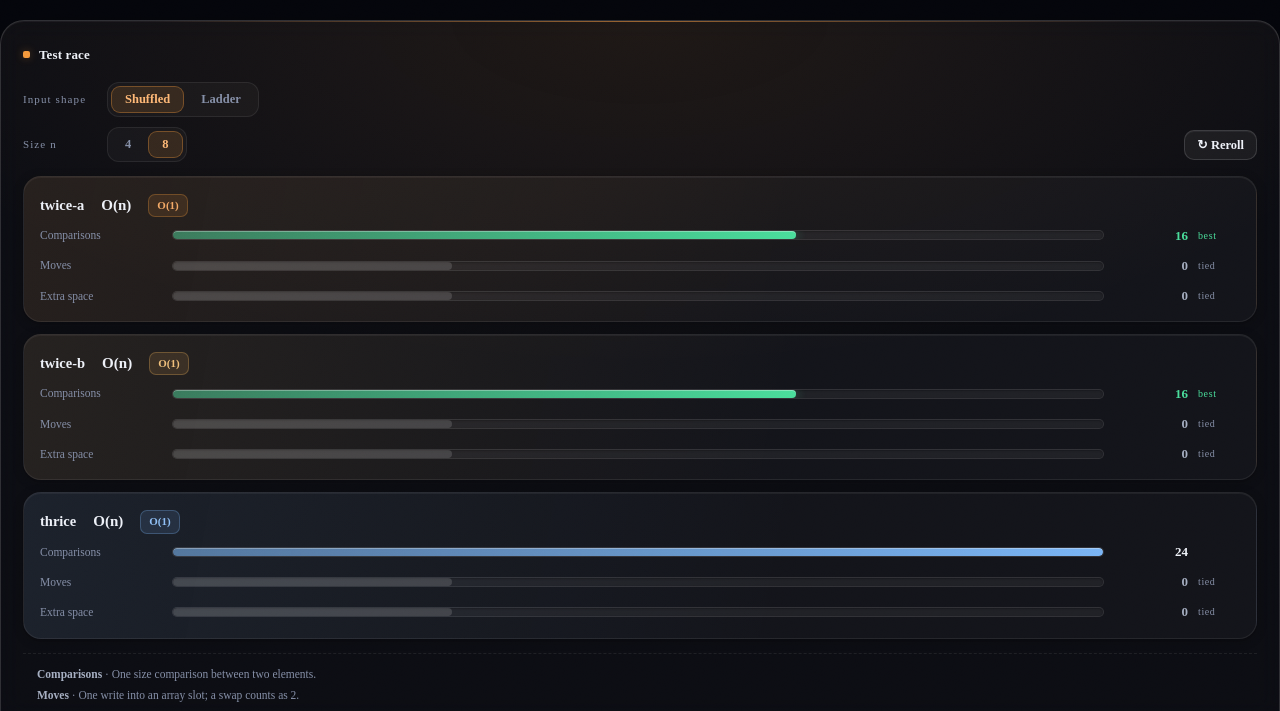
the reroll button › is disabled, with the shape's reason, when no count can change
Click the button "Ladder". click: x=221, y=100
box: [187,86,255,113]
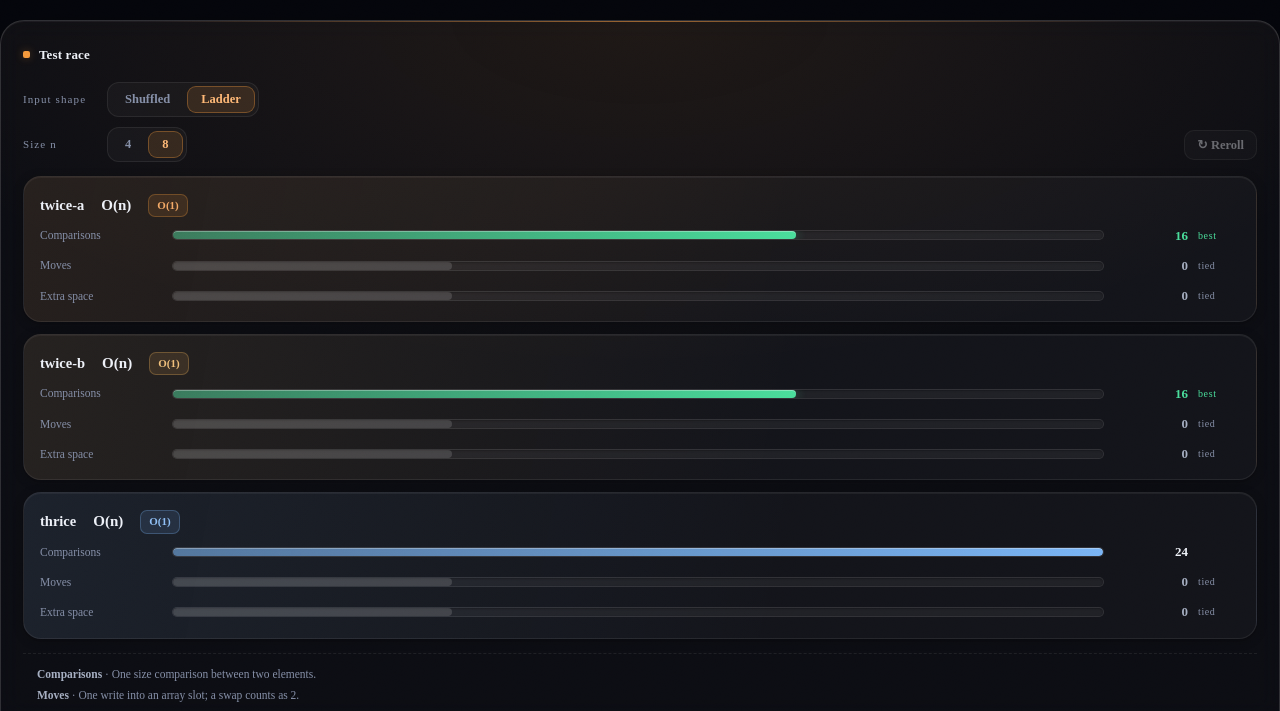
Expected: the button "↻ Reroll" is disabled, [1184,130,1257,160]
